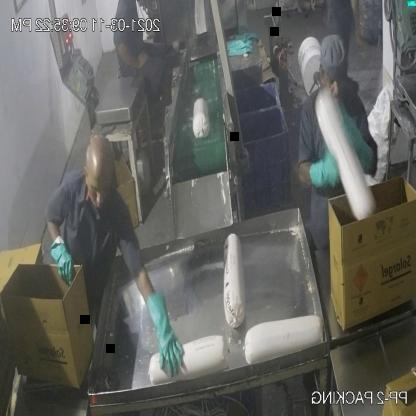glove: (145, 285, 187, 379), (42, 230, 80, 301)
no_glove: (115, 37, 152, 76)
